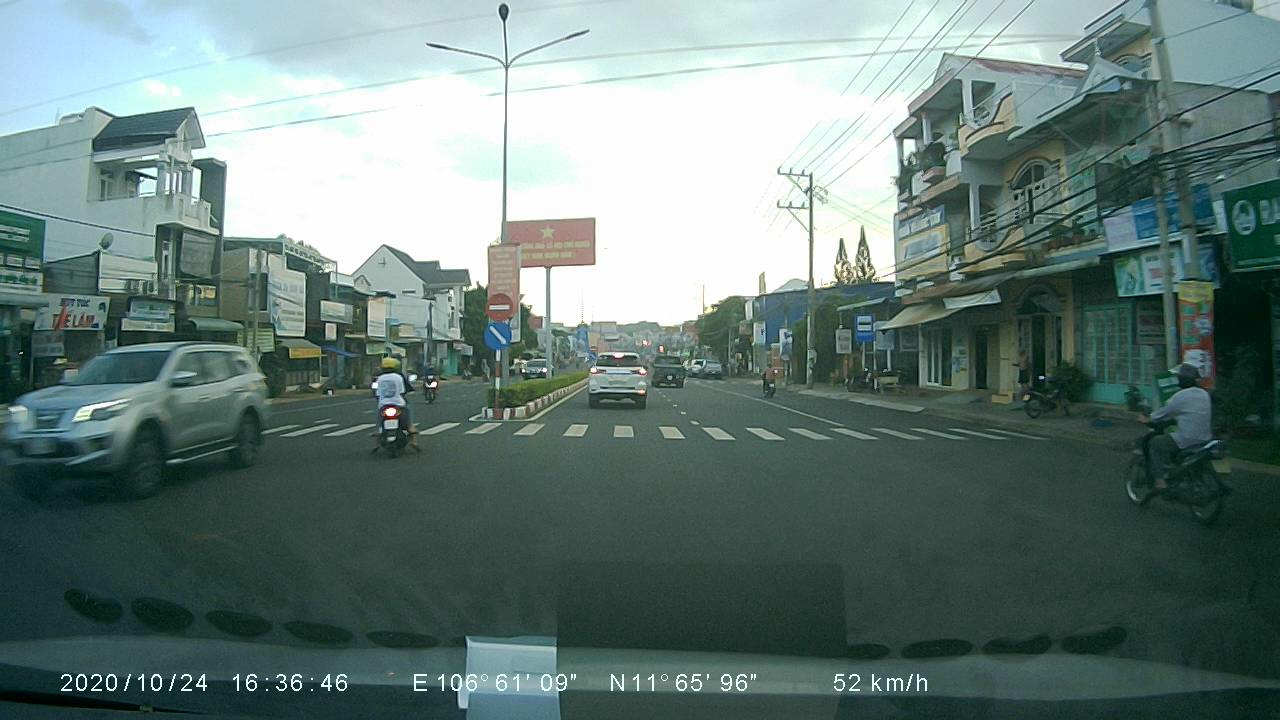Cam di nguoc chieu: (482, 290, 515, 321)
Huong di phai re phai: (480, 322, 514, 350)
